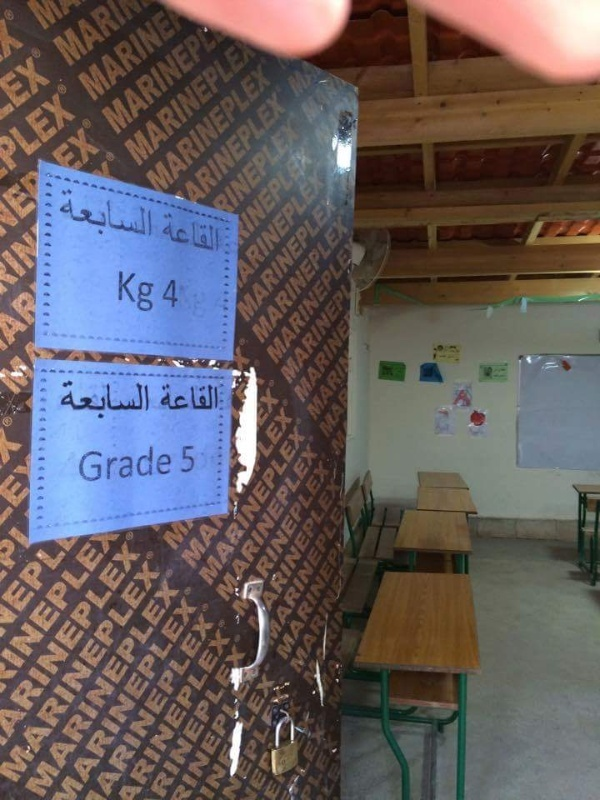text: (65, 186, 80, 246), (81, 186, 96, 246), (97, 186, 112, 246), (113, 186, 128, 246), (129, 186, 144, 246), (129, 267, 144, 314), (177, 211, 192, 253), (193, 211, 208, 253), (65, 379, 80, 421), (81, 379, 96, 421), (97, 379, 112, 421), (113, 379, 128, 421), (129, 379, 144, 421), (81, 444, 96, 485), (97, 444, 112, 485), (113, 444, 128, 485), (129, 444, 144, 485), (145, 444, 160, 485), (145, 267, 158, 314), (161, 444, 173, 485), (145, 186, 153, 246), (118, 267, 128, 314), (161, 278, 176, 309), (165, 211, 176, 253), (209, 211, 220, 253), (161, 381, 176, 410), (177, 381, 192, 410), (193, 381, 208, 410), (145, 379, 153, 421), (181, 446, 192, 475), (59, 186, 64, 246), (209, 381, 218, 410), (58, 379, 64, 421), (193, 446, 197, 475), (177, 278, 180, 309), (159, 278, 160, 309)
